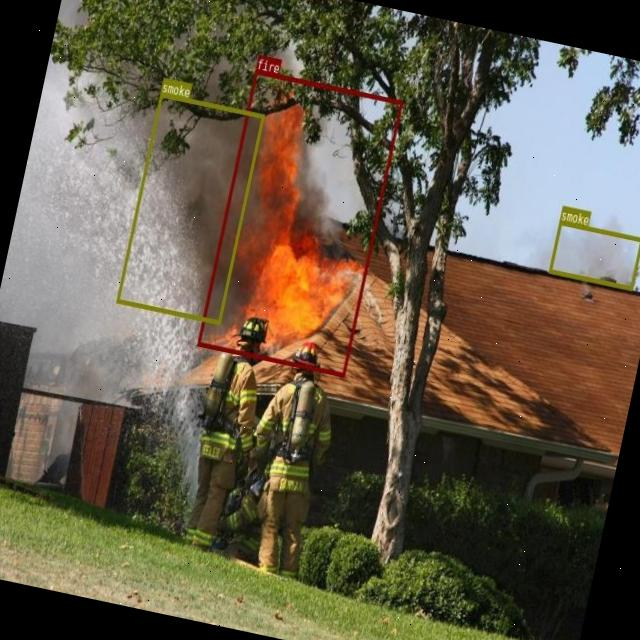fire: (196, 69, 402, 376)
smoke: (115, 92, 264, 323), (548, 219, 640, 290)
